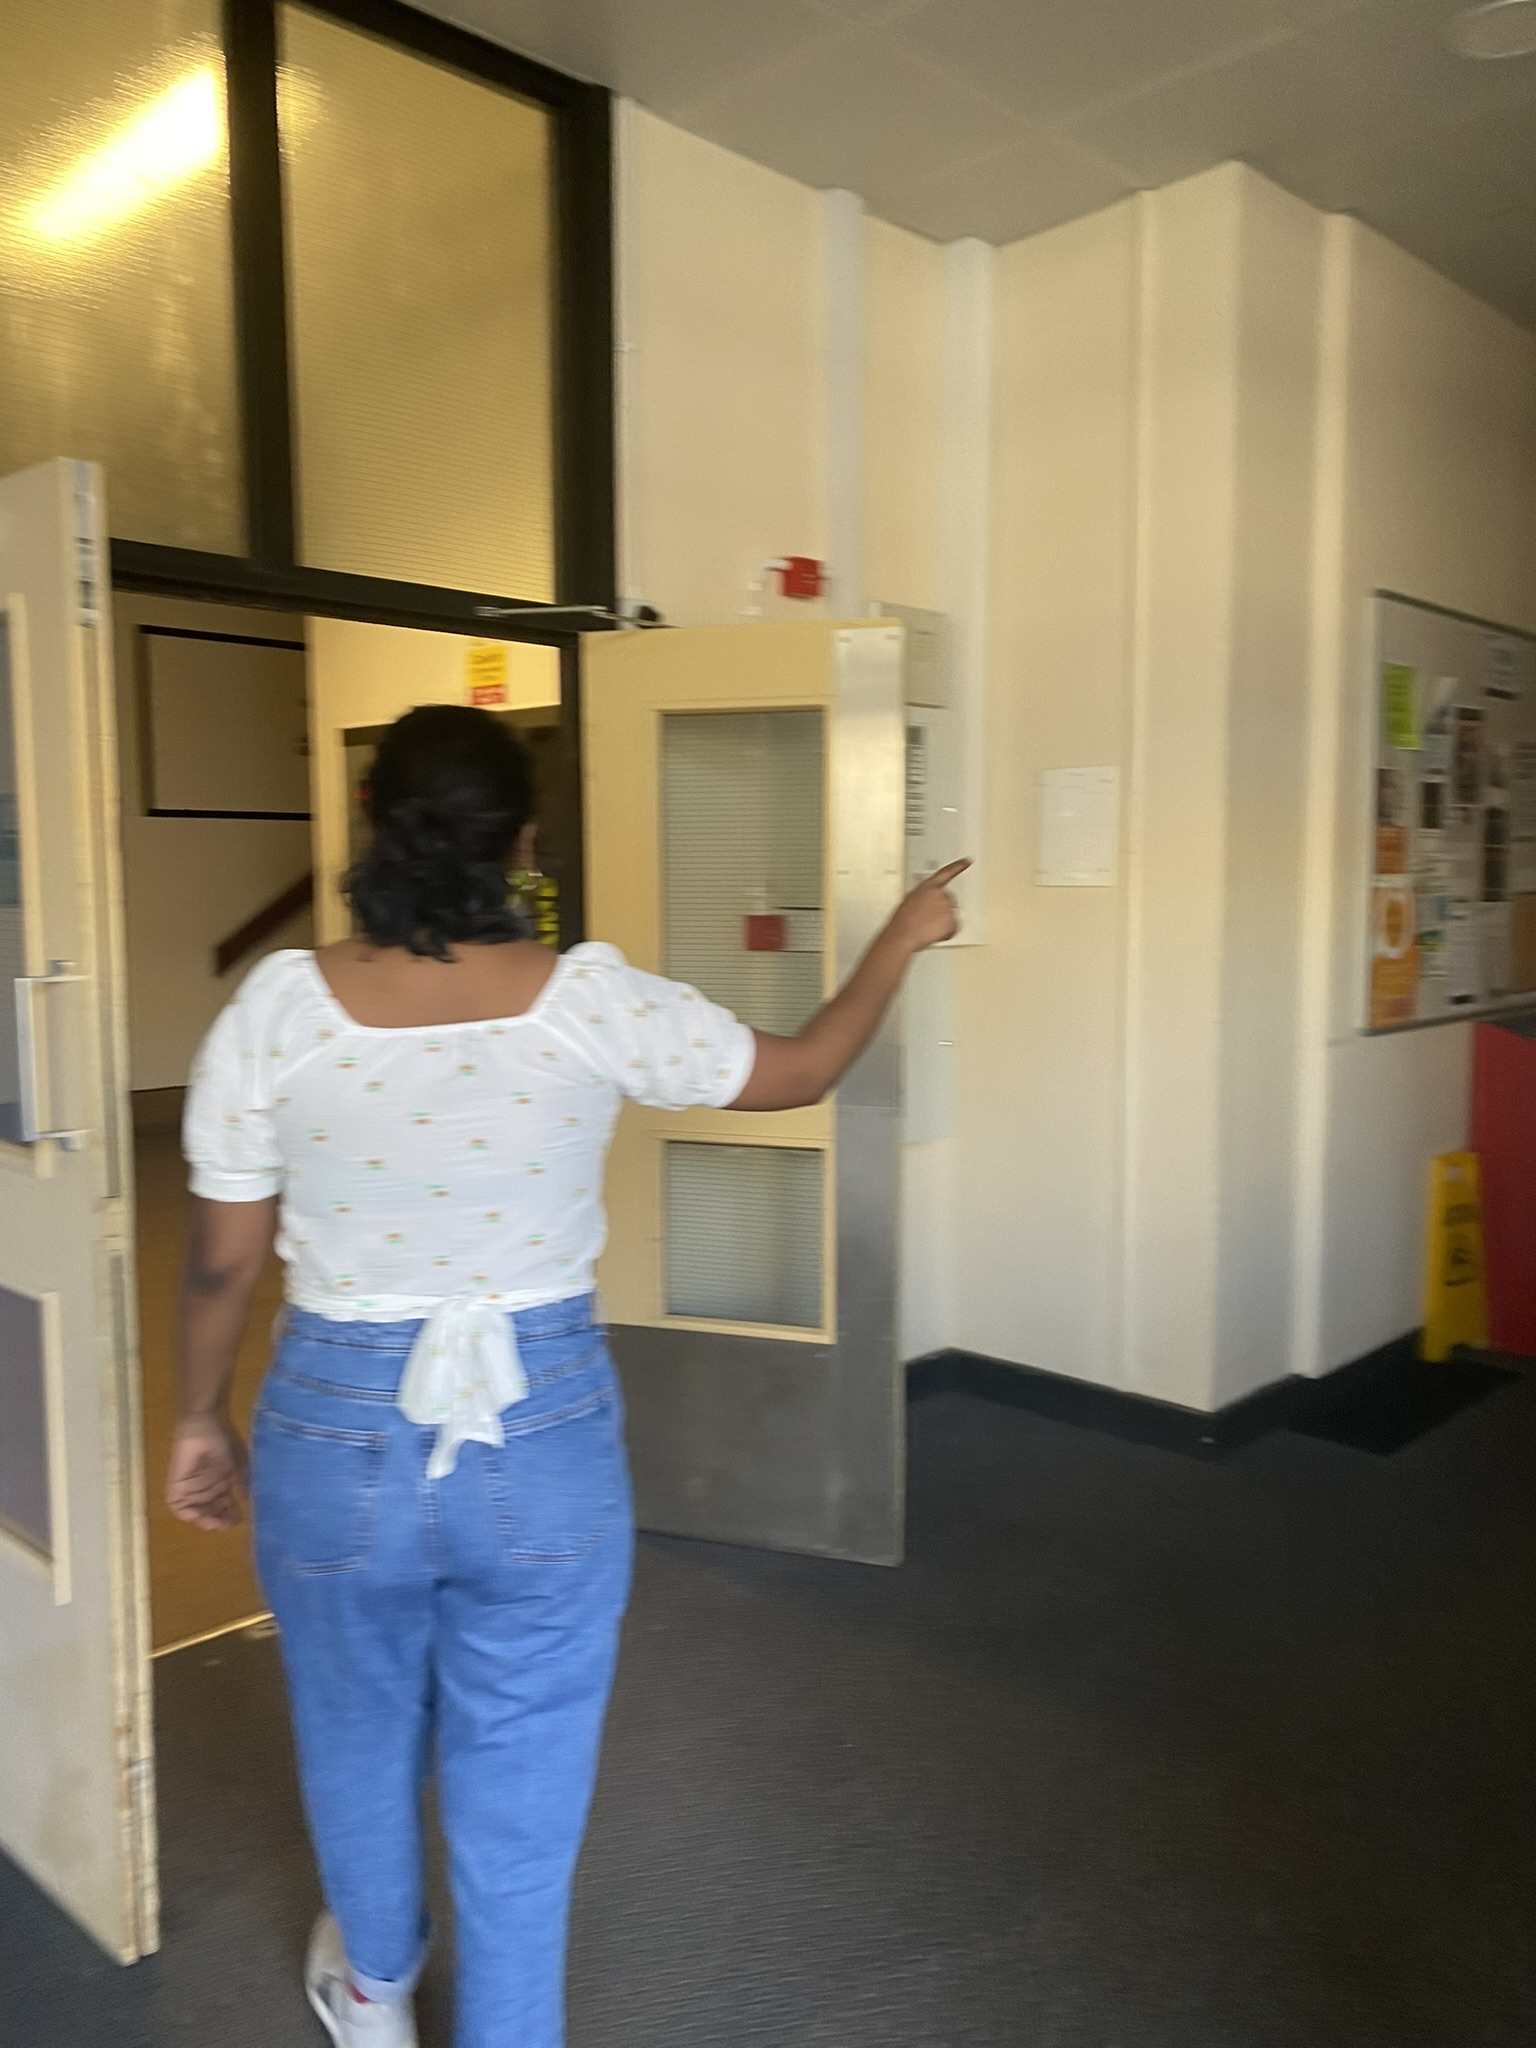door: (561, 627, 942, 1629), (5, 471, 213, 1809)
